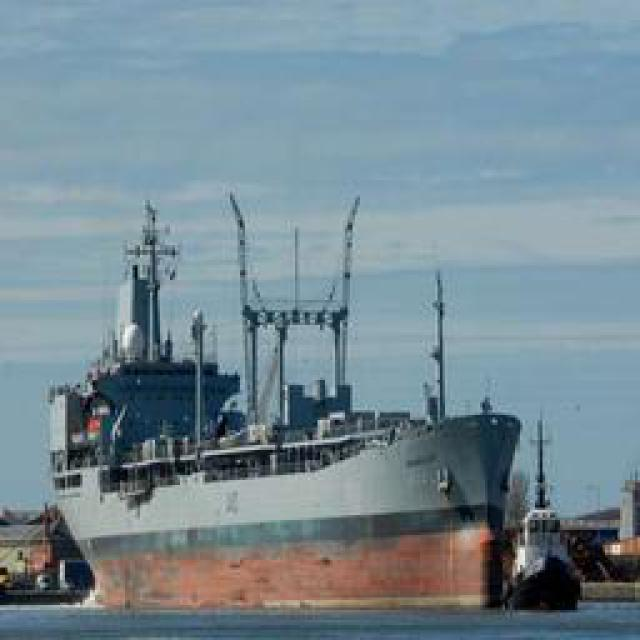Ship: (36, 184, 531, 619)
